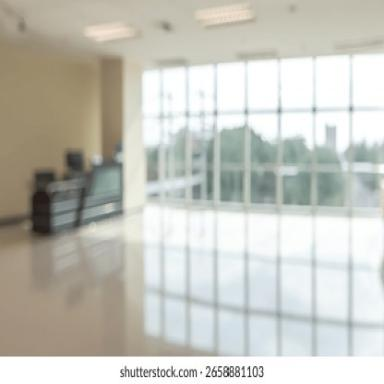glass_panel: (142, 70, 161, 193), (316, 55, 350, 108), (352, 53, 384, 108), (281, 58, 313, 108), (217, 62, 245, 112), (188, 64, 214, 114)
